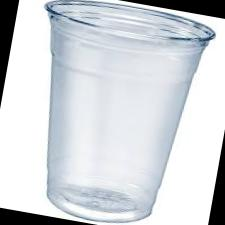Plastik: (46, 0, 214, 221)
